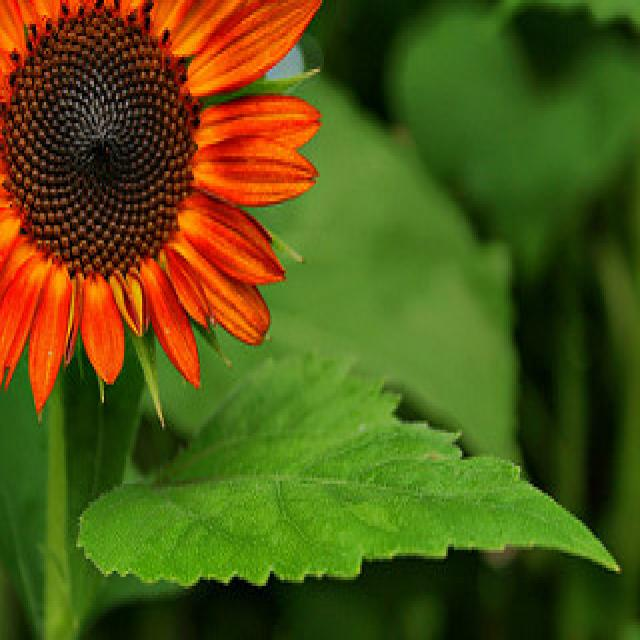sunflower: (0, 0, 330, 424)
